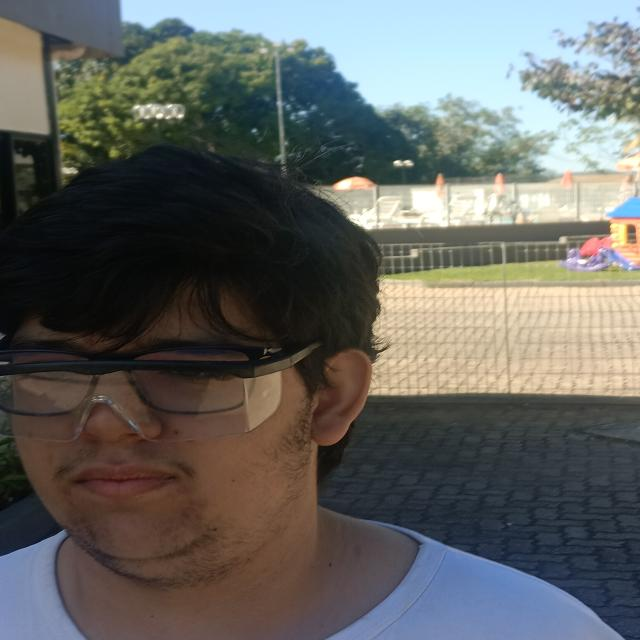oculos-epi: (0, 343, 319, 442)
